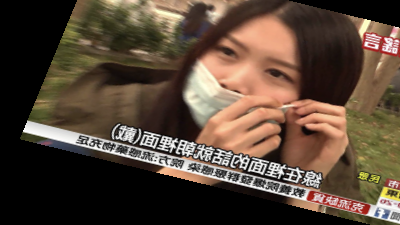mask_weared_incorrect: (172, 1, 366, 153)
